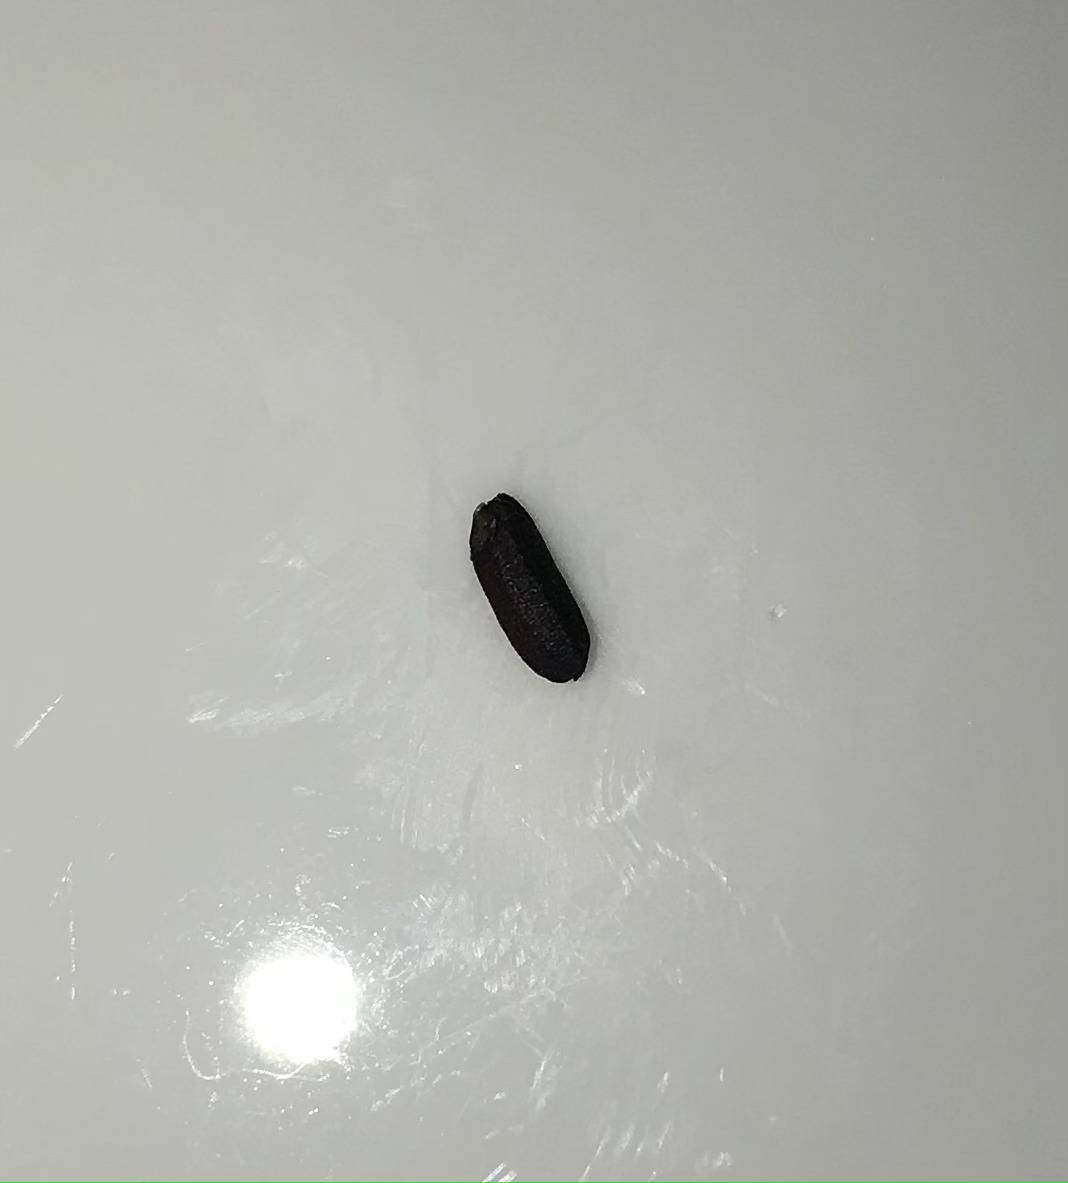Gao lut: (468, 492, 593, 691)
